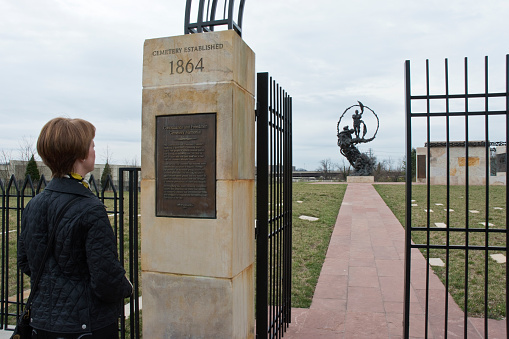em pe: (20, 106, 118, 339)
